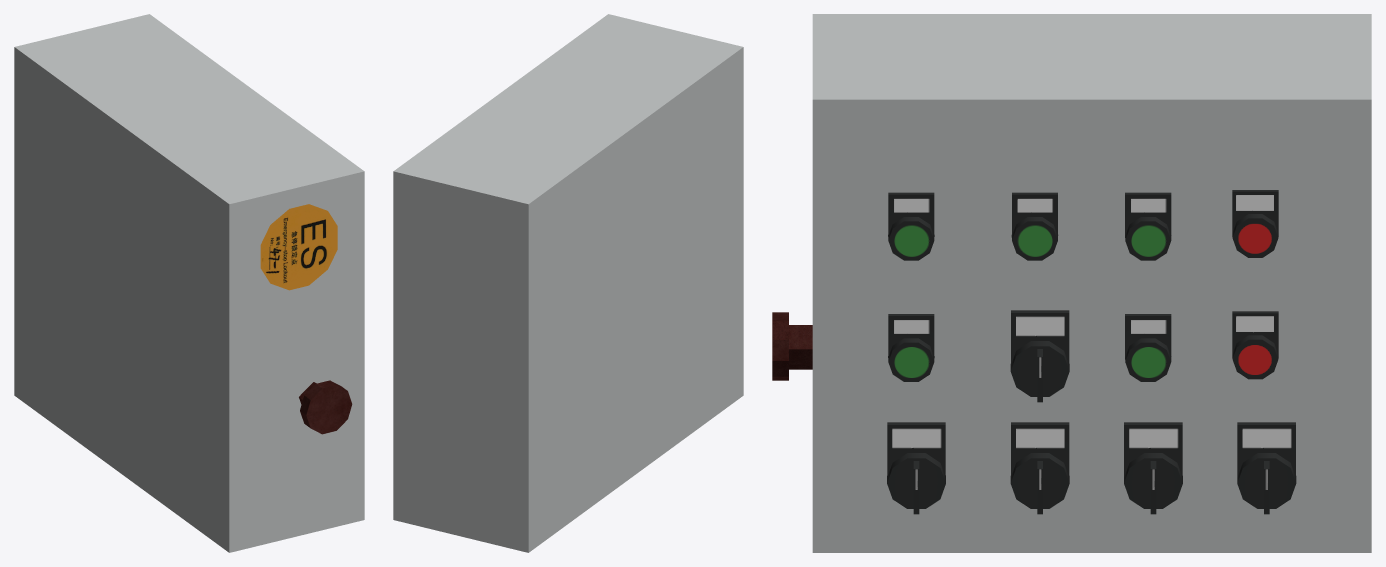
Rendered from caokong03_01.FBX.
3 views of the same model, side by side, from view 1: azimuth 30°, elevation 25°; view 2: azimuth 150°, elevation 25°; view 3: azimuth 270°, elevation 25° (orthographic). The views are drawn at different scales.
Parts seen in each view (by area): view 1: YF_Model_caokong03_01; view 2: YF_Model_caokong03_01; view 3: YF_Model_caokong03_01.
Part boxes in pixels (<box>): YF_Model_caokong03_01: <box>14,14,364,552</box>; YF_Model_caokong03_01: <box>393,14,743,552</box>; YF_Model_caokong03_01: <box>772,14,1371,552</box>.
Size of the model in its own units: 23.35 by 48.55 by 58.18.
1 material, 1 textured.
